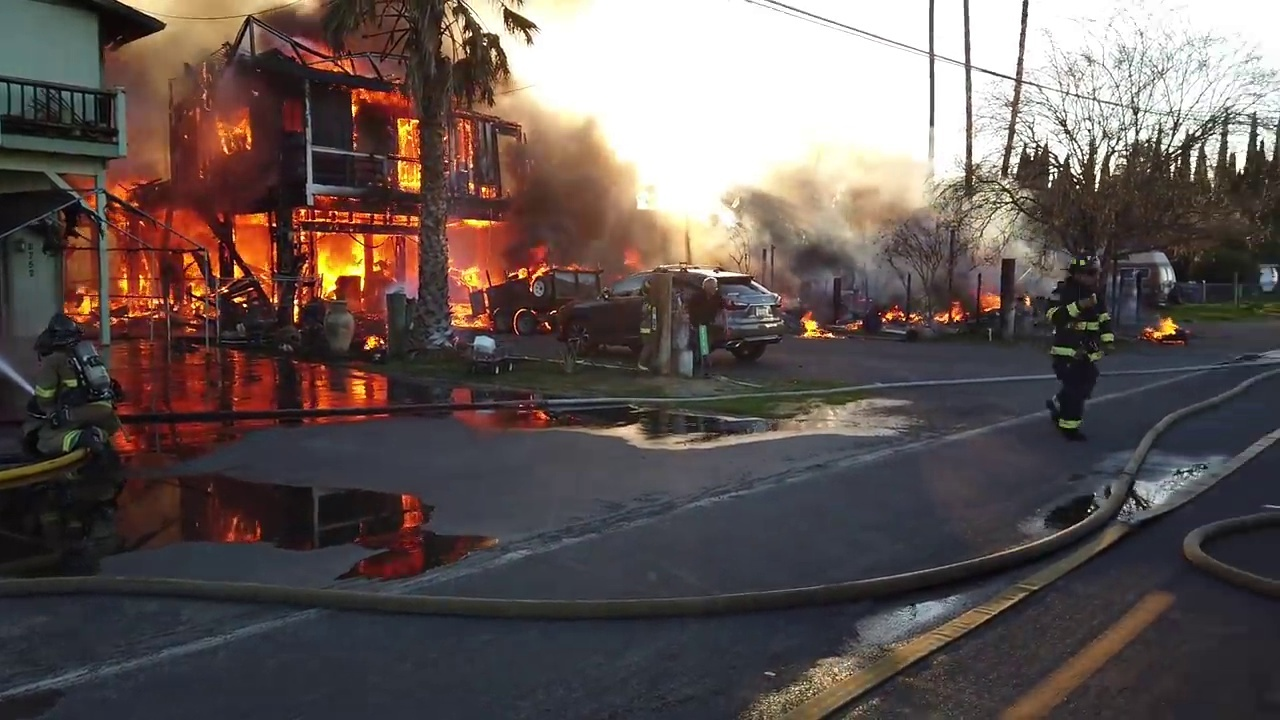fire: (61, 99, 567, 375), (284, 33, 374, 79), (210, 108, 256, 154), (393, 118, 421, 186), (516, 248, 553, 288), (882, 303, 964, 321), (1141, 316, 1183, 339), (800, 312, 838, 333), (623, 247, 643, 267), (981, 293, 1002, 310)
smoke: (489, 1, 665, 256), (700, 123, 933, 285), (977, 194, 1058, 297), (120, 46, 270, 98), (147, 3, 321, 33), (125, 102, 169, 182)
